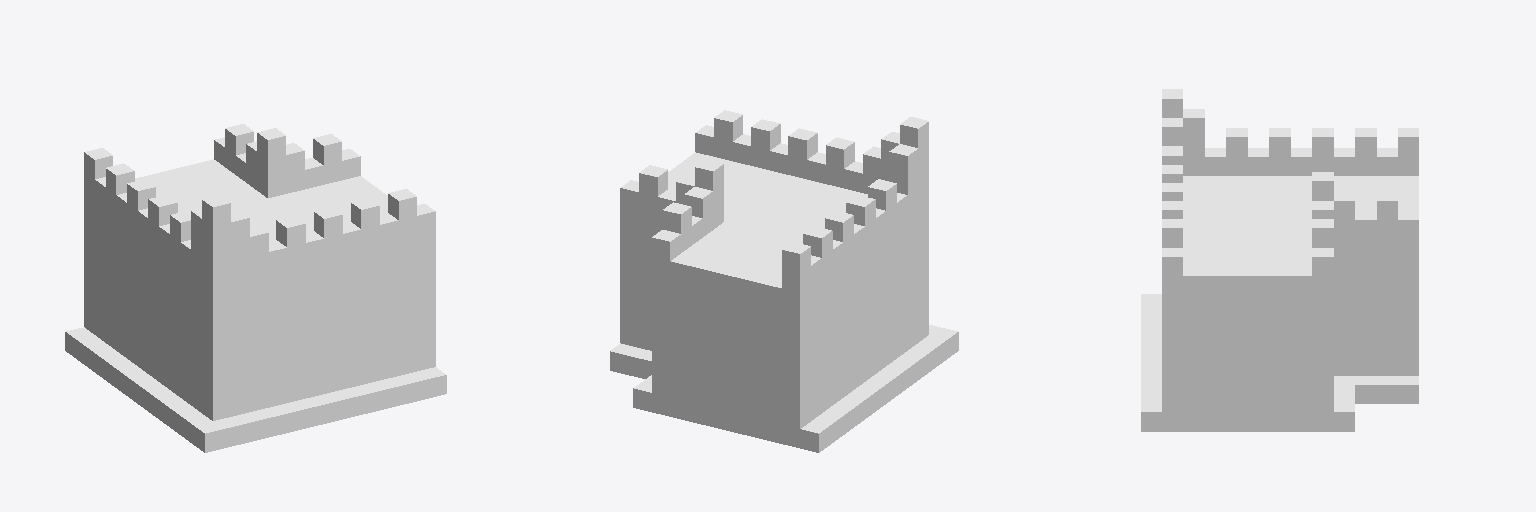
The model's file is WallCurved1.obj.
3 renders of one model, left to right at view 1: azimuth 30°, elevation 25°; view 2: azimuth 150°, elevation 25°; view 3: azimuth 270°, elevation 25°, orthographic.
Parts seen in each view (by area): view 1: WallCurved1; view 2: WallCurved1; view 3: WallCurved1.
Boxes of the visible parts, x1,y1,x2,y2 form: WallCurved1: [65, 124, 446, 452]; WallCurved1: [610, 110, 958, 452]; WallCurved1: [1141, 89, 1418, 431].
Size of the model in its own units: 13 by 12 by 13.